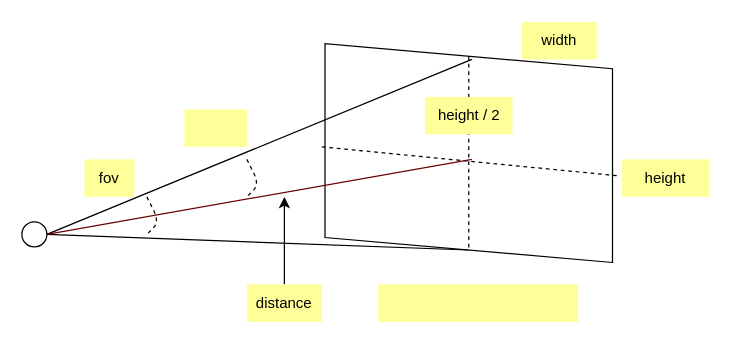
Image size: 731x343. Some labels were removed from this diagram. Each missing label, with the centre of its shape:
"aspect = width / height" belongs at point (478, 302).
"fov / 2" belongs at point (215, 127).
